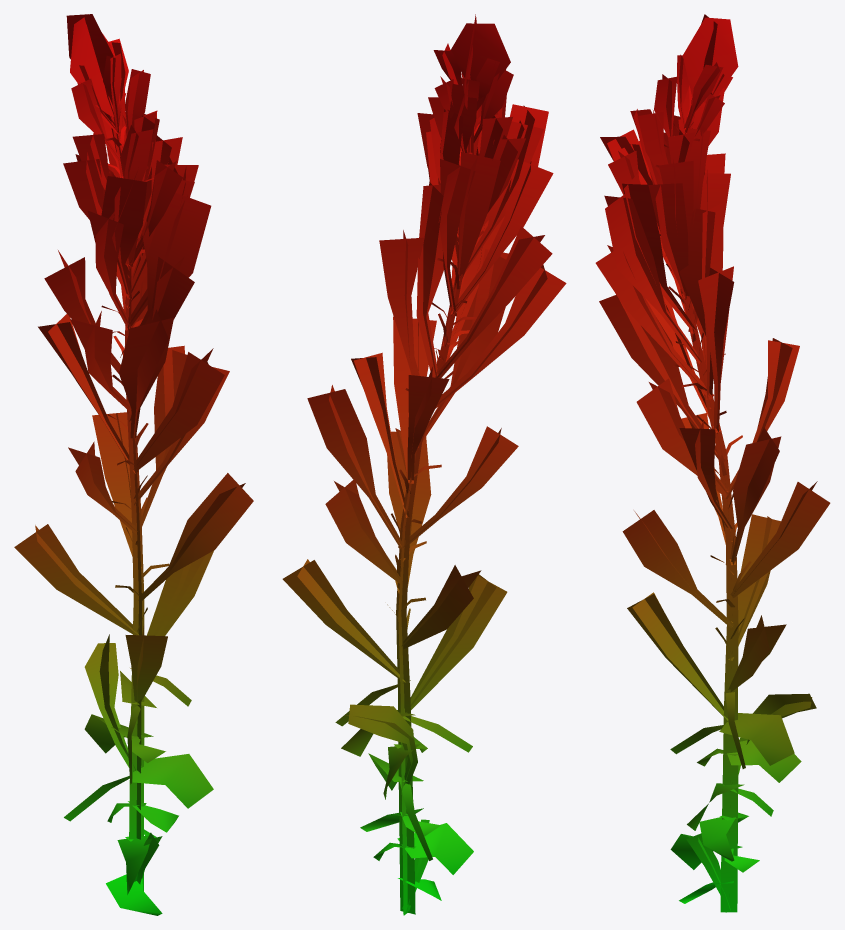
File: Var1_LOD1.fbx
The picture shows the model from 3 angles, left to right: view 1: azimuth 30°, elevation 25°; view 2: azimuth 150°, elevation 25°; view 3: azimuth 270°, elevation 25°; orthographic projection. The views are drawn at different scales.
Parts seen in each view (by area): view 1: _84d4_Var1_LOD1; view 2: _84d4_Var1_LOD1; view 3: _84d4_Var1_LOD1.
Part boxes in pixels (bbox=[...]): _84d4_Var1_LOD1: bbox=[14, 14, 253, 915]; _84d4_Var1_LOD1: bbox=[282, 14, 566, 915]; _84d4_Var1_LOD1: bbox=[595, 14, 830, 912].
Size of the model in its own units: 38.34 by 149 by 36.57.
